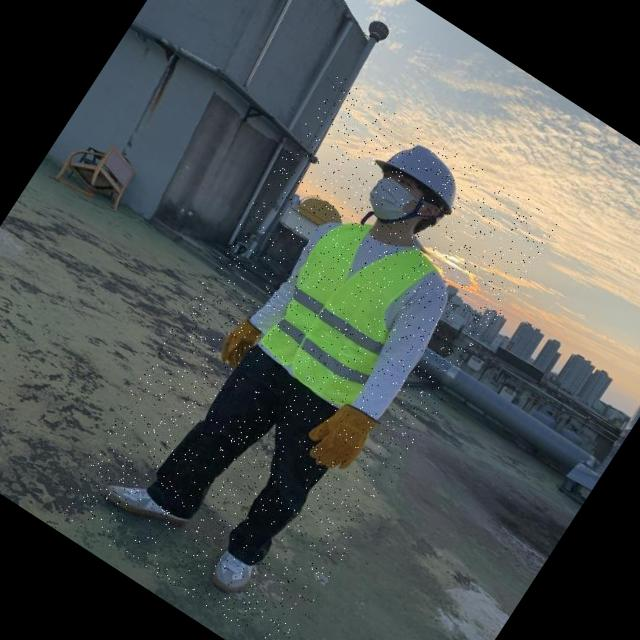hard_hat: (371, 128, 474, 218)
safety_vest: (252, 206, 444, 415)
vehicle: (53, 73, 562, 640)
work_boots: (100, 469, 192, 544), (204, 546, 258, 600)
